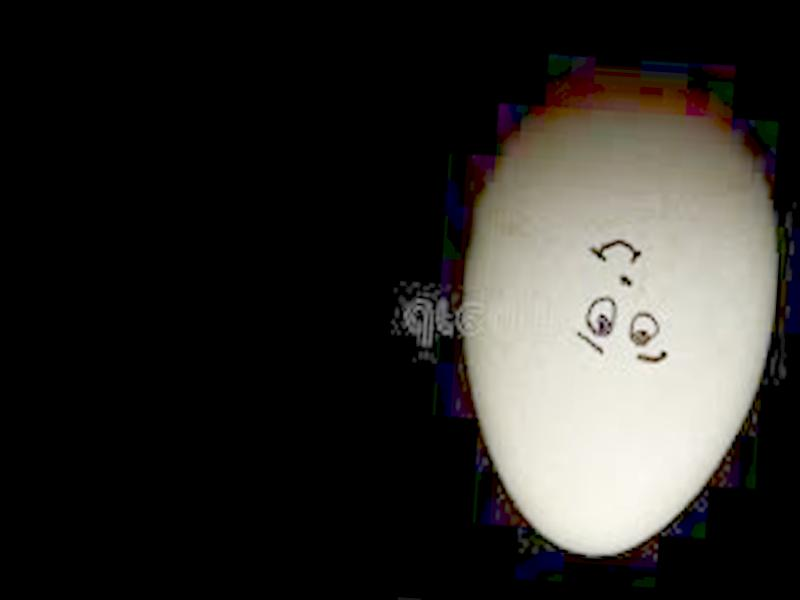Eggs: (451, 89, 785, 566)
